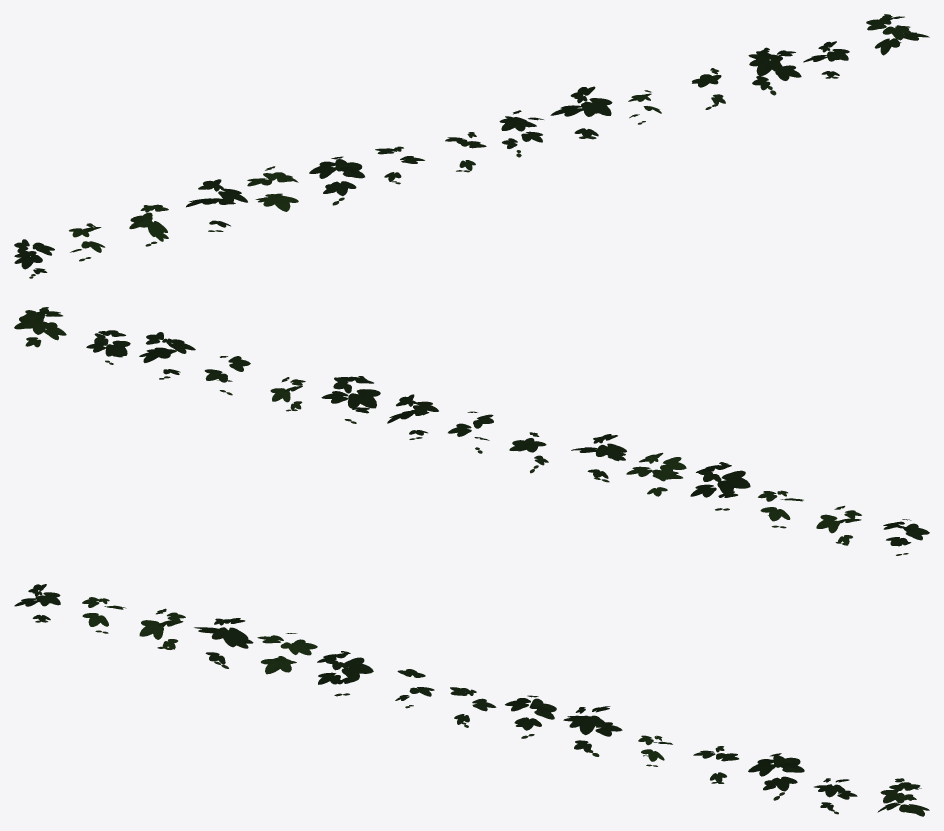
Rendered from ROW_12_SEG0_foliage.dae.
The picture shows the model from 3 angles, top to bottom: view 1: azimuth 30°, elevation 25°; view 2: azimuth 150°, elevation 25°; view 3: azimuth 330°, elevation 25°; orthographic projection.
Visible parts, largest first — view 1: ROW_12_SEG0_foliage; view 2: ROW_12_SEG0_foliage; view 3: ROW_12_SEG0_foliage.
Boxes of the visible parts, <box> form: ROW_12_SEG0_foliage: <box>14,14,929,278</box>; ROW_12_SEG0_foliage: <box>14,307,929,555</box>; ROW_12_SEG0_foliage: <box>14,584,929,816</box>.
Bounding box in the file's own units: 4.49 × 0.311 × 0.2248.
